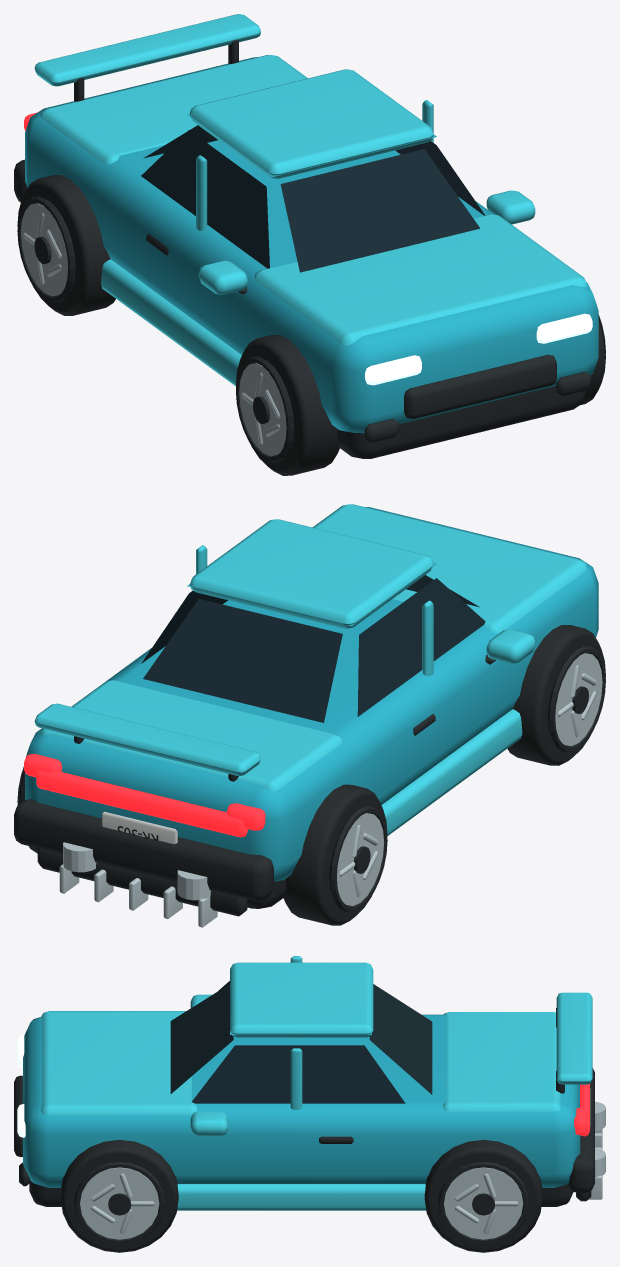
The model's file is road_rush_car.glb.
3 views of the same model, one above another, from view 1: azimuth 30°, elevation 25°; view 2: azimuth 150°, elevation 25°; view 3: azimuth 270°, elevation 25° (orthographic). The views are drawn at different scales.
Parts seen in each view (by area): view 1: Carrocería principal, Capó bajo, Techo, Parabrisas, Tapa de maletero, Ventana lateral, Alerón trasero, Chasis inferior, Neumático, Neumático.001, Faldón lateral, Parrilla frontal (+13 smaller); view 2: Carrocería principal, Techo, Luneta trasera, Capó bajo, Tapa de maletero, Parachoques trasero, Ventana lateral, Alerón trasero, Neumático.001, Neumático, Faldón lateral, Franja de luces traseras (+13 smaller); view 3: Carrocería principal, Capó bajo, Tapa de maletero, Techo, Ventana lateral.001, Faldón lateral.001, Neumático.003, Neumático.002, Luneta trasera, Parabrisas, Llanta.002, Llanta.003 (+10 smaller).
Boxes of the visible parts, x1=… form: Carrocería principal: x1=25, y1=57, x2=598, y2=433; Capó bajo: x1=254, y1=214, x2=587, y2=345; Techo: x1=190, y1=69, x2=433, y2=178; Parabrisas: x1=280, y1=149, x2=480, y2=272; Tapa de maletero: x1=40, y1=55, x2=307, y2=164; Ventana lateral: x1=141, y1=130, x2=269, y2=268; Alerón trasero: x1=34, y1=14, x2=260, y2=86; Chasis inferior: x1=337, y1=386, x2=585, y2=458; Neumático: x1=236, y1=335, x2=339, y2=475; Neumático.001: x1=17, y1=175, x2=115, y2=315; Faldón lateral: x1=101, y1=259, x2=241, y2=386; Parrilla frontal: x1=403, y1=354, x2=556, y2=418; Carrocería principal: x1=25, y1=507, x2=598, y2=881; Techo: x1=190, y1=519, x2=433, y2=628; Luneta trasera: x1=143, y1=599, x2=342, y2=722; Capó bajo: x1=312, y1=504, x2=587, y2=633; Tapa de maletero: x1=40, y1=680, x2=342, y2=791; Parachoques trasero: x1=14, y1=799, x2=273, y2=900; Ventana lateral: x1=357, y1=578, x2=485, y2=716; Alerón trasero: x1=34, y1=703, x2=260, y2=775; Neumático.001: x1=283, y1=784, x2=387, y2=925; Neumático: x1=507, y1=625, x2=605, y2=765; Faldón lateral: x1=381, y1=709, x2=522, y2=835; Franja de luces traseras: x1=36, y1=771, x2=247, y2=837; Carrocería principal: x1=23, y1=1014, x2=580, y2=1187; Capó bajo: x1=41, y1=1011, x2=197, y2=1114; Tapa de maletero: x1=443, y1=1012, x2=560, y2=1111; Techo: x1=230, y1=962, x2=373, y2=1037; Ventana lateral.001: x1=192, y1=1045, x2=405, y2=1103; Faldón lateral.001: x1=177, y1=1184, x2=426, y2=1210; Neumático.003: x1=424, y1=1139, x2=542, y2=1252; Neumático.002: x1=60, y1=1139, x2=178, y2=1252; Luneta trasera: x1=369, y1=984, x2=432, y2=1094; Parabrisas: x1=170, y1=984, x2=233, y2=1093; Llanta.002: x1=80, y1=1167, x2=159, y2=1239; Llanta.003: x1=444, y1=1167, x2=523, y2=1239.
Size of the model in its own units: 2.42 by 1.72 by 4.62.
